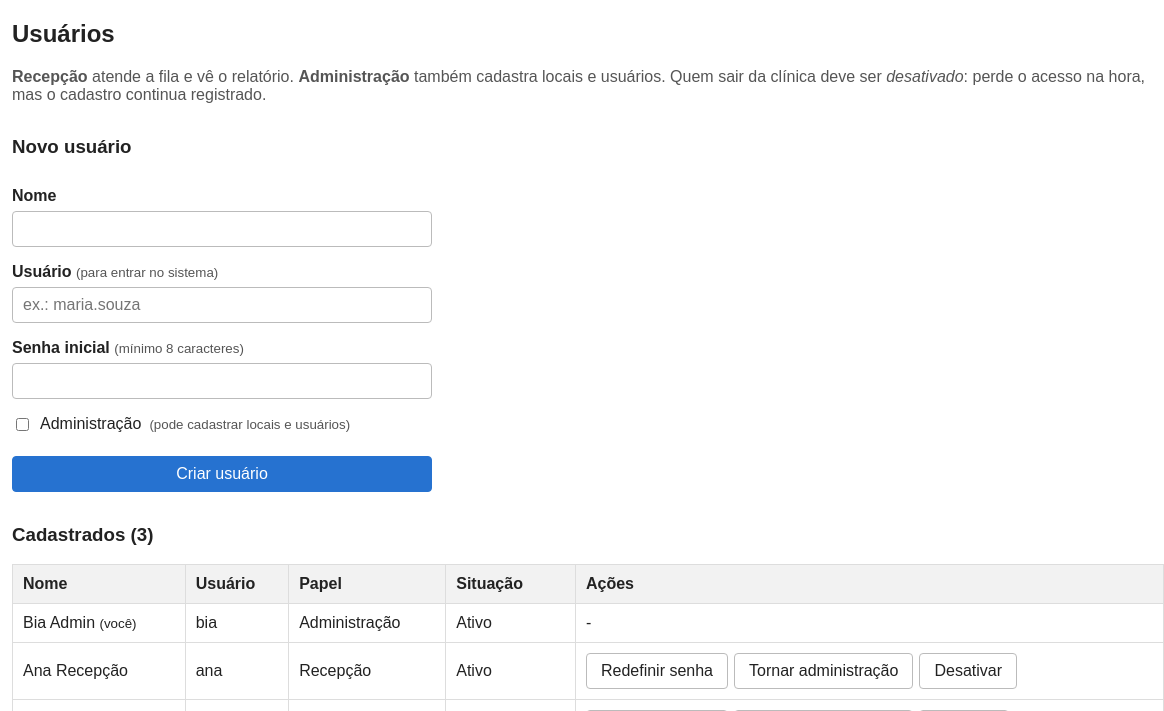
Test: "Tornar administração" manda o pedido e recarrega a lista
Expected: the cell "ana" is shown, [185,643,289,700]
Click the 1st button "Tornar administração" at (824, 671), box [734,653,913,689]
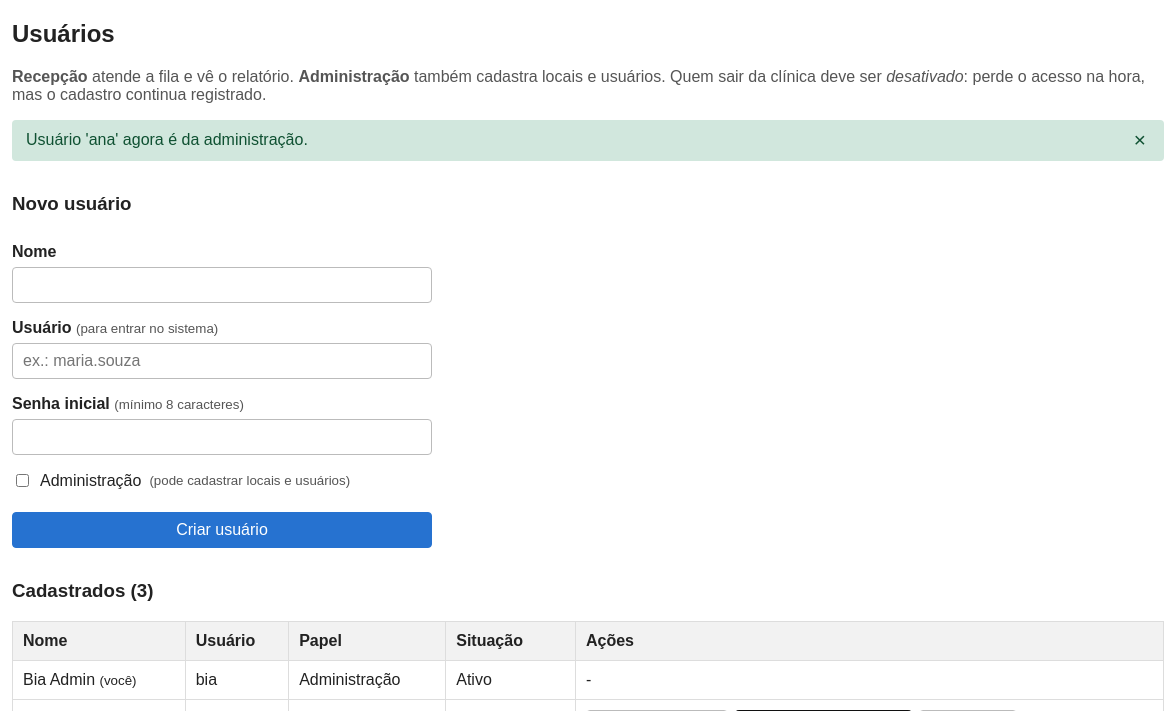
Result: the message shows "agora é da administração" at [26,131,308,148]
